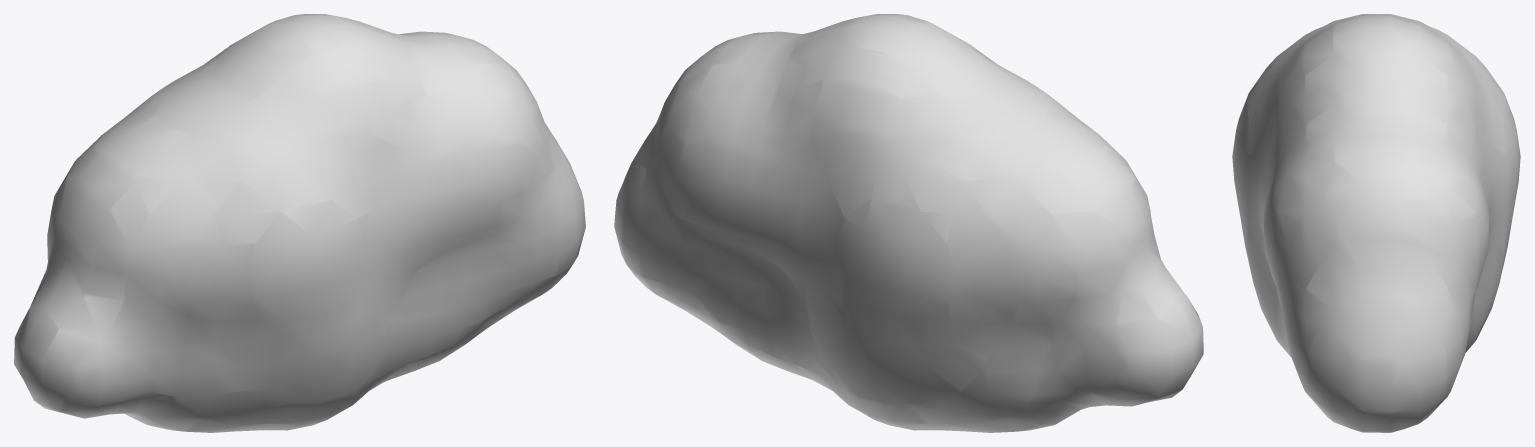
The model's file is cloud2.fbx.
The picture shows the model from 3 angles, left to right: view 1: azimuth 30°, elevation 25°; view 2: azimuth 150°, elevation 25°; view 3: azimuth 270°, elevation 25°; orthographic projection. The views are drawn at different scales.
Parts seen in each view (by area): view 1: Mball.010; view 2: Mball.010; view 3: Mball.010.
Part boxes in pixels (x1=…): Mball.010: x1=14, y1=14, x2=585, y2=432; Mball.010: x1=614, y1=14, x2=1203, y2=432; Mball.010: x1=1232, y1=14, x2=1520, y2=432.
Size of the model in its own units: 883 by 584 by 406.
